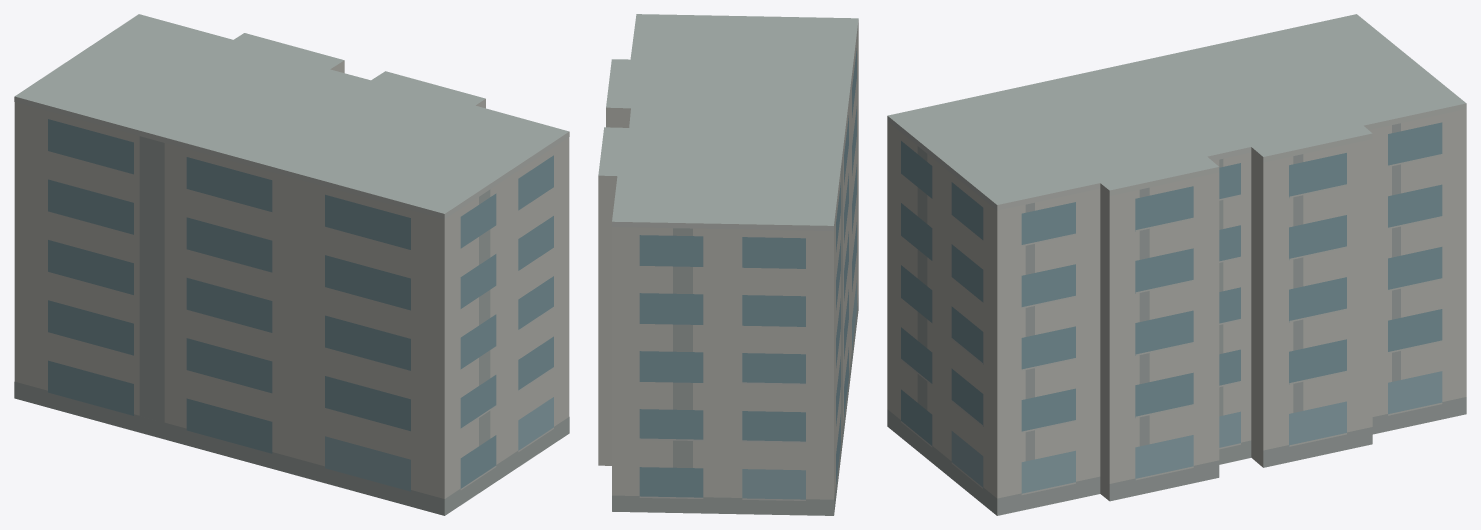
Rendered from survey-upis-32833042.glb.
3 renders of one model, left to right at view 1: azimuth 30°, elevation 25°; view 2: azimuth 150°, elevation 25°; view 3: azimuth 270°, elevation 25°, orthographic. The views are drawn at different scales.
Parts seen in each view (by area): view 1: survey-upis-32833042.tmp; view 2: survey-upis-32833042.tmp; view 3: survey-upis-32833042.tmp.
Boxes of the visible parts, left/top/right/bottom form: survey-upis-32833042.tmp: left=14, top=14, right=569, bottom=515; survey-upis-32833042.tmp: left=598, top=14, right=858, bottom=515; survey-upis-32833042.tmp: left=887, top=14, right=1466, bottom=515.
Size of the model in its own units: 17.67 by 13.4 by 22.64.
